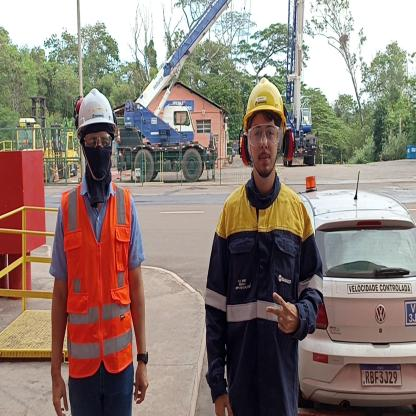Balaclava: (75, 126, 120, 190)
C_eletrica: (206, 181, 327, 416)
Capacete: (238, 75, 289, 116), (70, 88, 118, 129)
colete: (55, 185, 144, 382)
